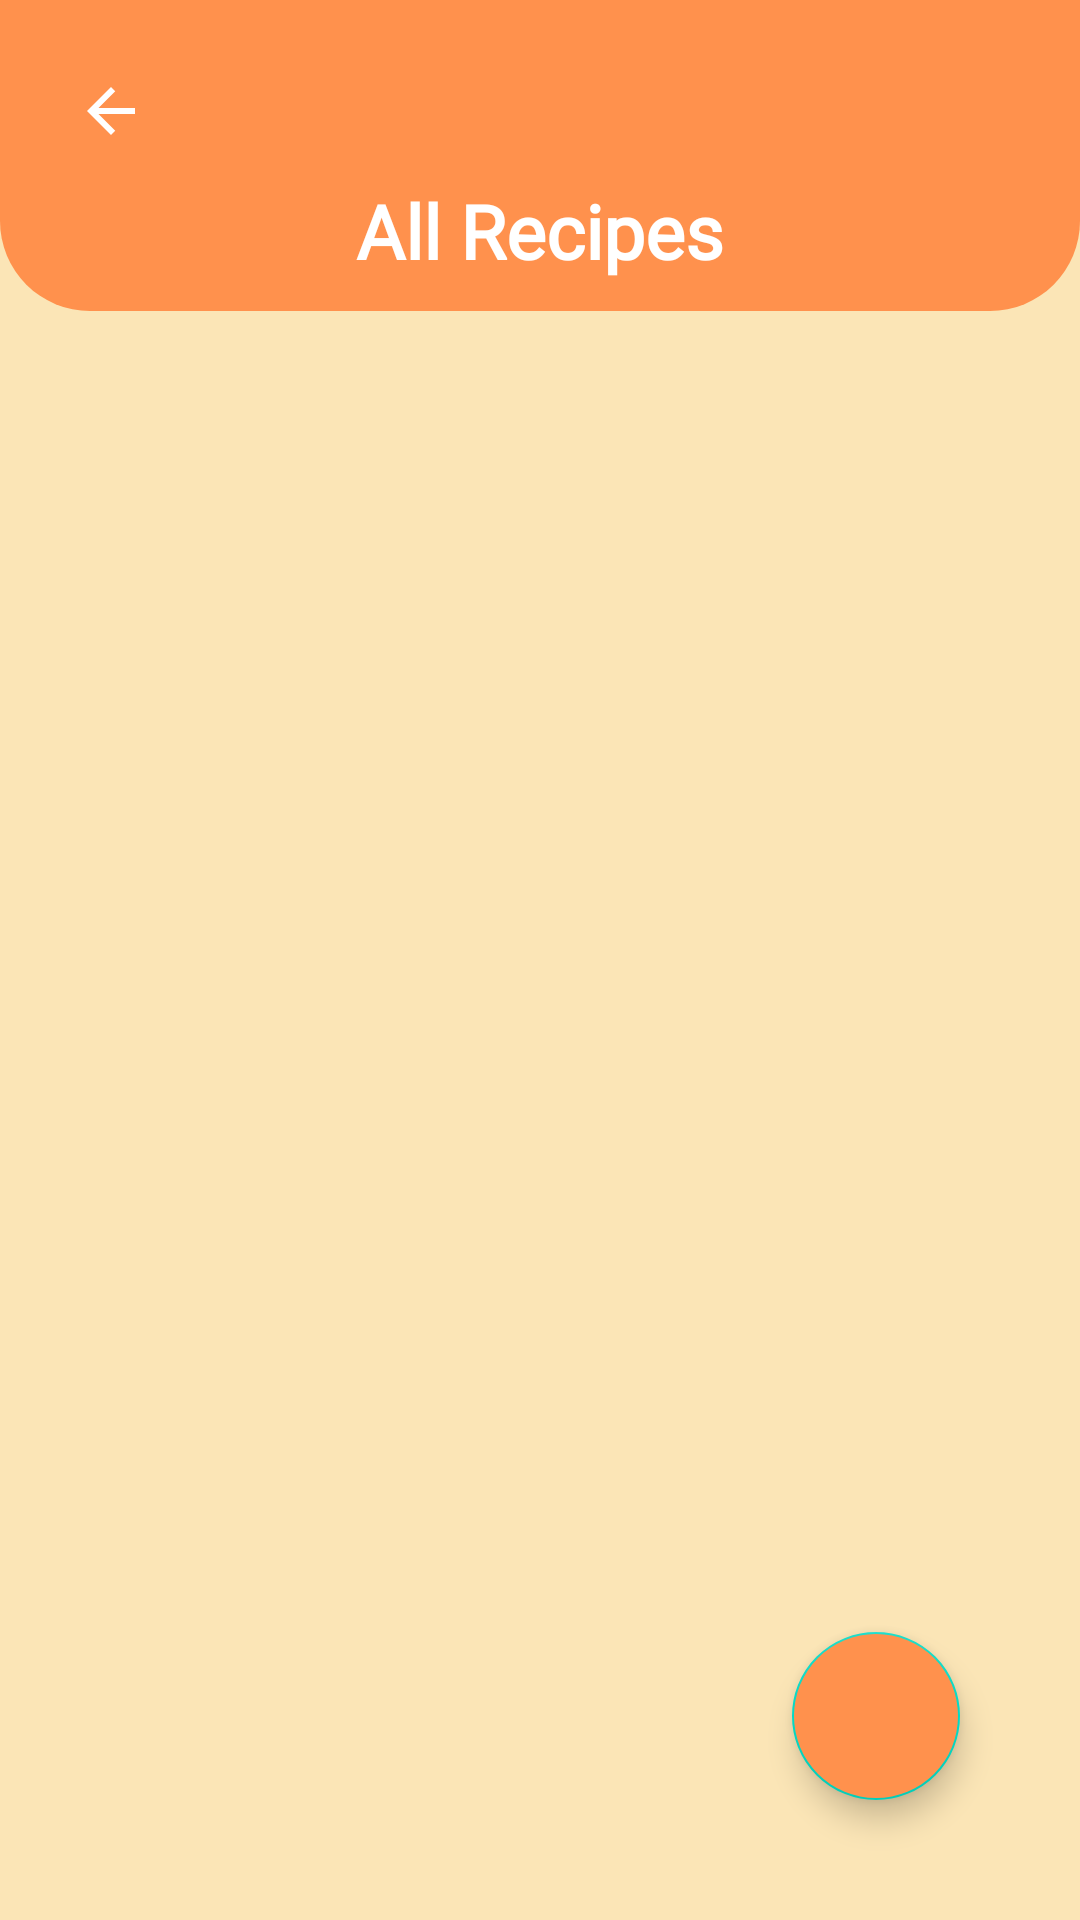

Screen size 1080px×1920px. Icon name, then its box in pixels as (x1, y1, x2, y2):
arrow back: (87, 87, 135, 135)
